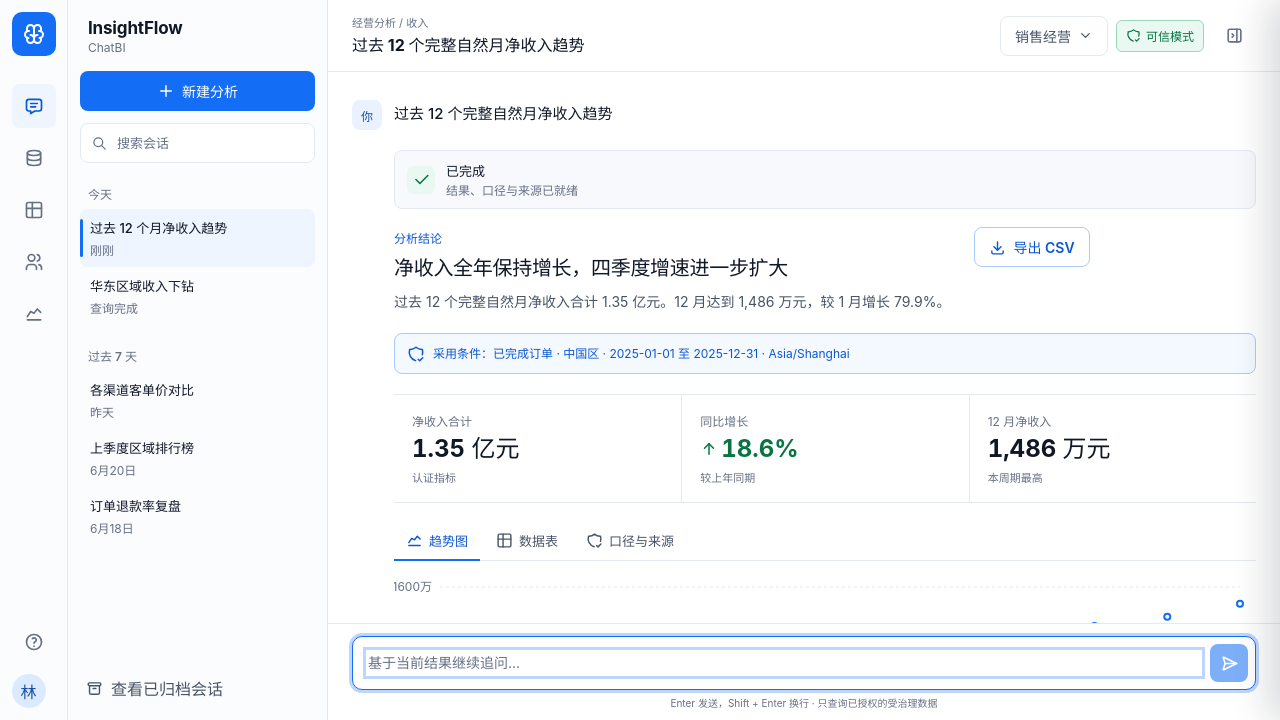
Test case: Accessibility acceptance › keeps global navigation, icon buttons and composer keyboard operation accessible
Expected: the button named "问答工作台" is shown, top-left (12, 84), bottom-right (56, 128)
Expected: the button named "语义中心" is shown, top-left (12, 136), bottom-right (56, 180)
In the text box named "输入分析问题": (784, 663) top-left (366, 650), bottom-right (1202, 676), type "上月净收入是多少？"
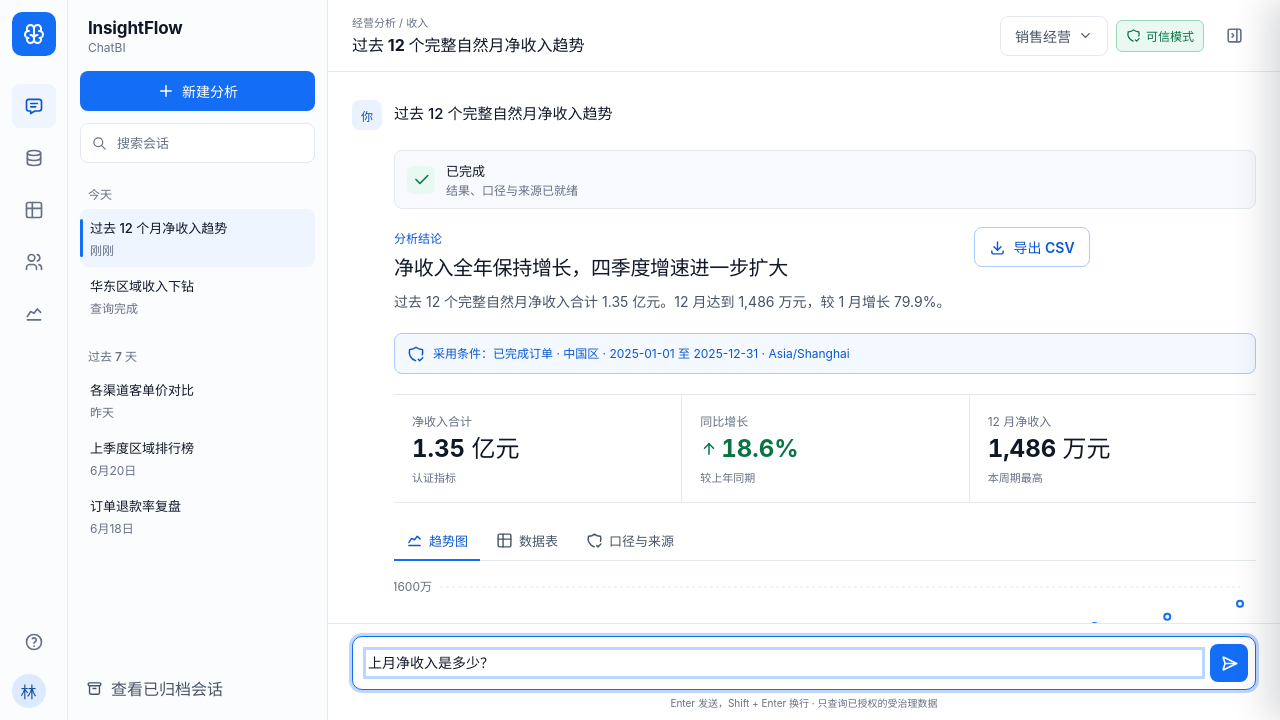
Press Enter in the text box named "输入分析问题", box top-left (366, 650), bottom-right (1202, 676)
Wait 1300 ms
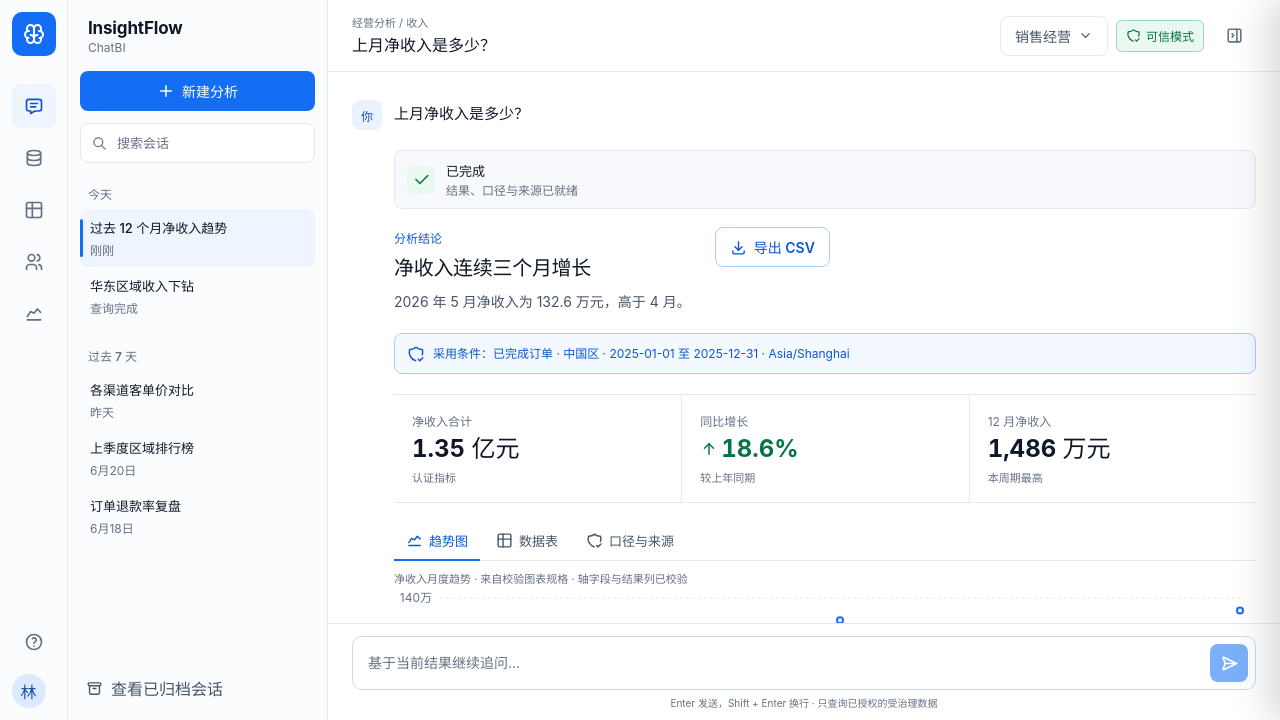
Expected: the text "已完成" is shown, top-left (446, 163), bottom-right (485, 179)
Expected: the heading "上月净收入是多少？" is shown, top-left (352, 32), bottom-right (496, 56)
